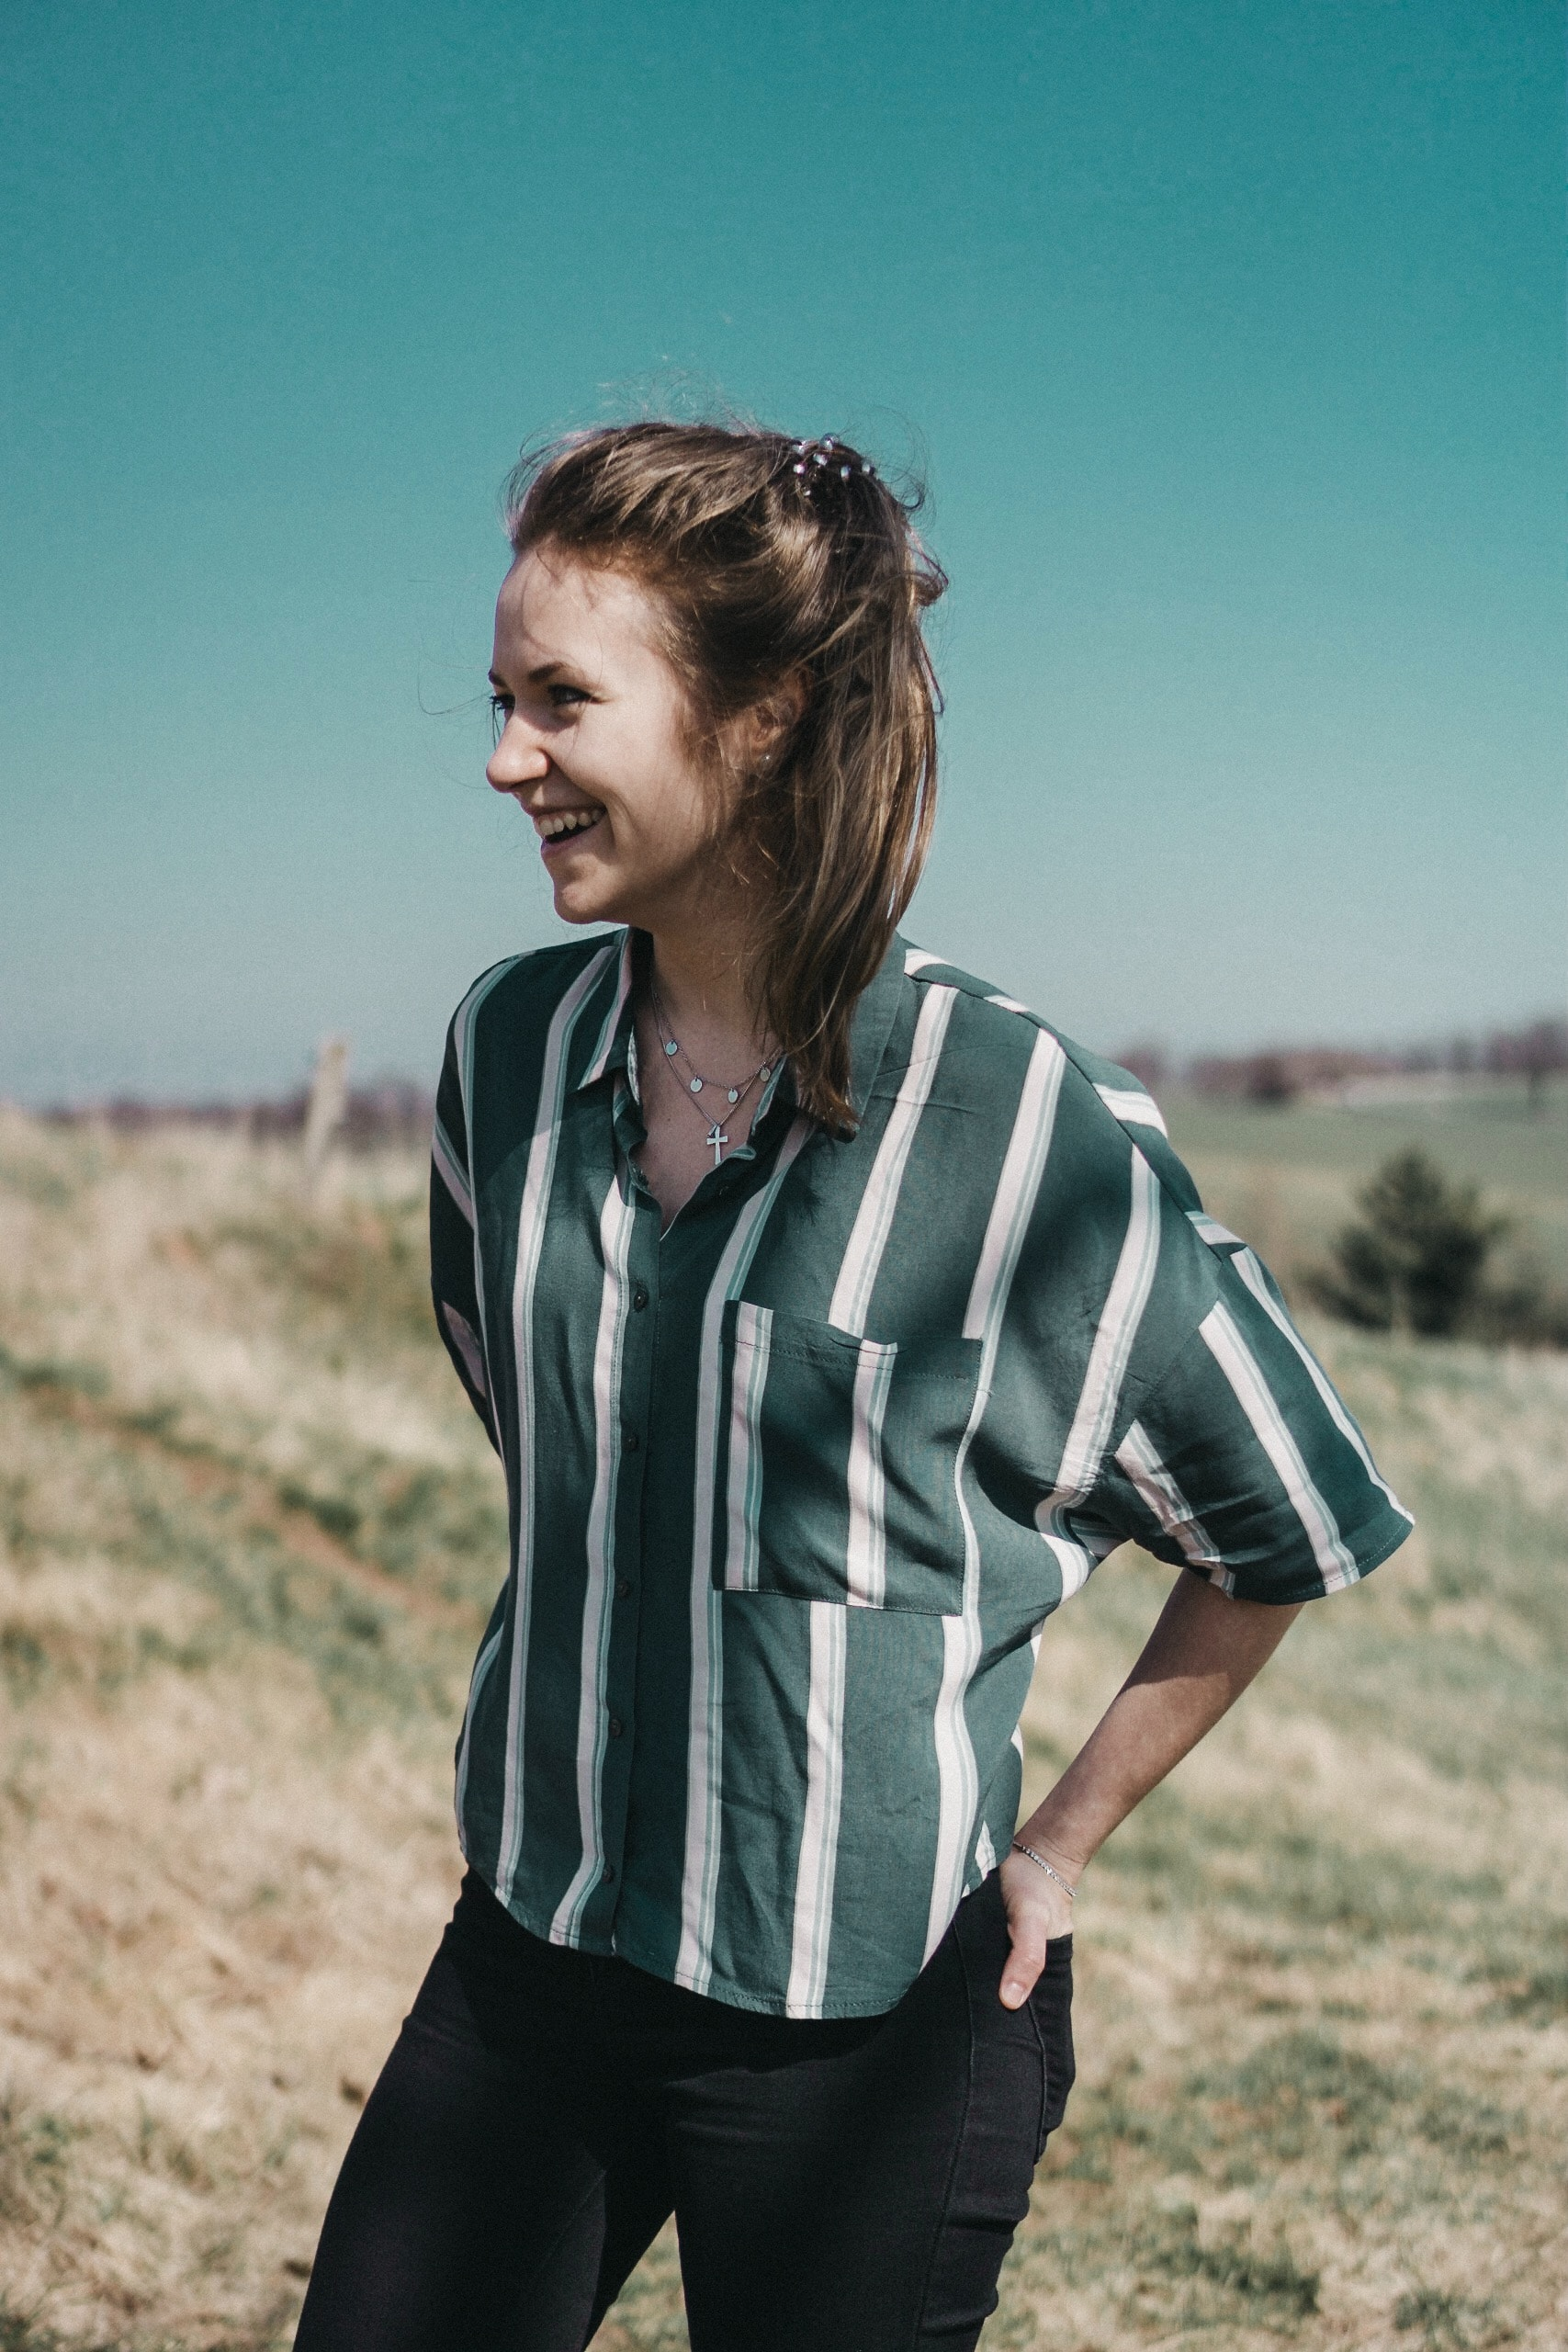person: (269, 394, 1410, 2352)
